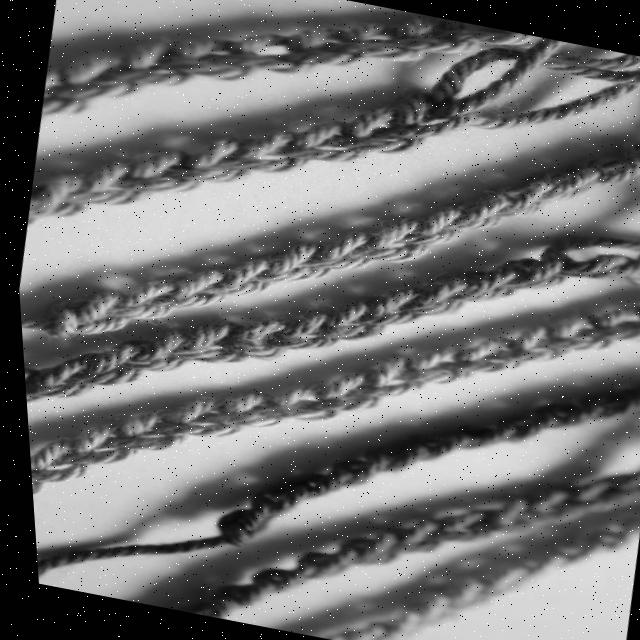ch: (317, 104, 423, 152), (374, 90, 472, 137), (161, 137, 255, 182), (137, 394, 237, 436), (103, 41, 194, 87), (205, 35, 313, 73), (160, 37, 255, 80), (214, 131, 311, 173), (110, 145, 195, 192), (91, 409, 185, 450), (66, 160, 149, 206), (42, 423, 134, 464), (44, 291, 124, 337), (329, 24, 425, 61), (267, 27, 360, 65), (60, 53, 142, 96), (273, 120, 358, 161), (253, 381, 338, 420), (387, 14, 477, 50), (249, 243, 329, 283), (347, 220, 424, 261), (70, 340, 142, 383), (186, 393, 284, 424), (165, 322, 241, 361), (20, 356, 92, 396), (392, 344, 467, 382), (304, 371, 377, 409), (97, 281, 174, 317), (24, 438, 87, 482), (261, 310, 333, 348), (116, 330, 186, 369), (396, 275, 462, 316), (308, 301, 381, 338), (295, 230, 370, 266), (207, 321, 282, 357), (532, 315, 609, 350), (40, 62, 93, 112), (353, 356, 419, 396), (350, 287, 419, 324), (203, 256, 270, 294), (392, 209, 462, 245), (464, 500, 537, 534), (445, 266, 514, 301), (450, 337, 519, 372), (433, 21, 532, 45), (28, 173, 84, 215), (515, 488, 579, 522), (563, 475, 626, 509), (572, 307, 640, 338), (164, 269, 220, 306), (504, 327, 563, 361), (494, 181, 548, 217), (502, 257, 562, 289), (396, 431, 462, 460), (538, 169, 596, 201), (211, 501, 258, 540), (421, 511, 484, 540), (246, 564, 307, 593), (586, 386, 640, 418), (449, 196, 502, 228), (362, 443, 419, 472), (438, 572, 482, 609), (340, 535, 391, 565), (206, 582, 267, 607), (295, 549, 347, 576), (530, 402, 586, 427), (384, 521, 429, 552), (413, 590, 450, 626), (254, 485, 295, 515), (456, 424, 510, 446), (282, 472, 327, 498), (326, 460, 374, 484), (496, 418, 541, 440)
